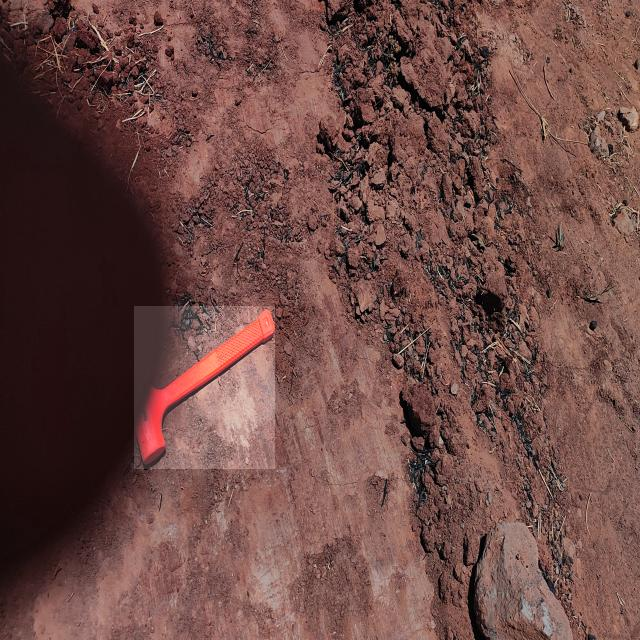Orange_hammer: (134, 306, 275, 469)
